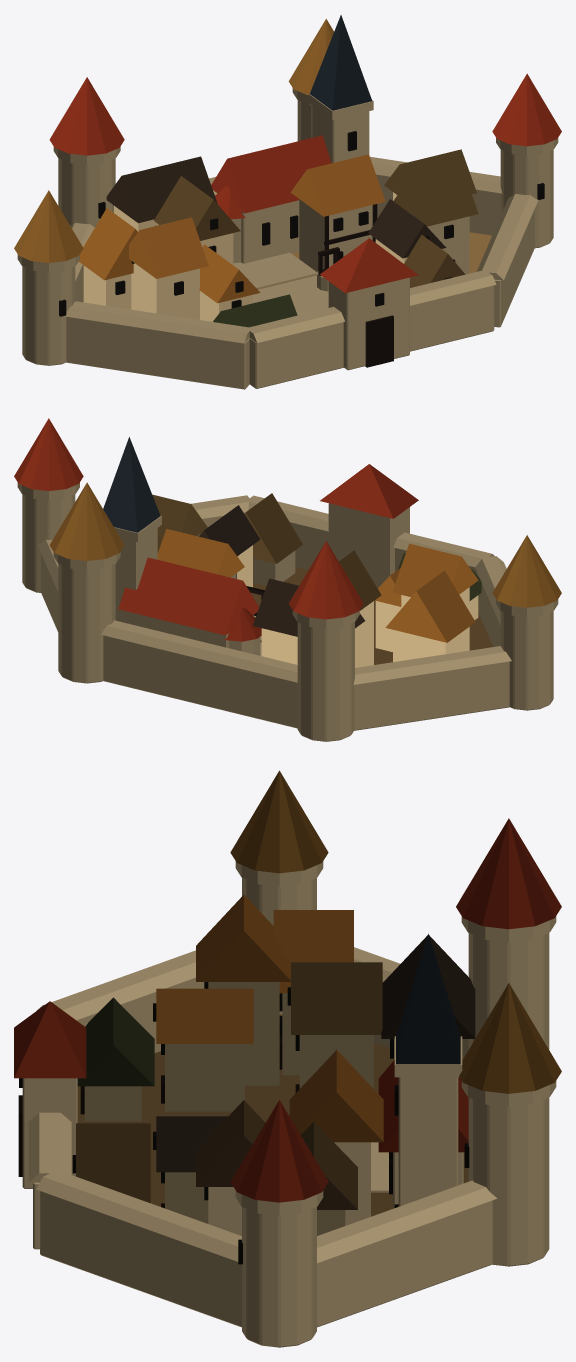
Rendered from settle_1.obj.
The picture shows the model from 3 angles, top to bottom: view 1: azimuth 30°, elevation 25°; view 2: azimuth 150°, elevation 25°; view 3: azimuth 270°, elevation 25°; orthographic projection. The views are drawn at different scales.
Parts seen in each view (by area): view 1: core_stone, core_roof_civic, core_roof_thatch, core_roof_thatch_old, core_plaster, core_roof_shingle, core_thatch, core_slate, core_window, core_wood_dark, core_roof_moss, core_cloth; view 2: core_stone, core_roof_civic, core_roof_thatch, core_thatch, core_plaster, core_roof_thatch_old, core_roof_shingle, core_slate, core_cloth; view 3: core_stone, core_roof_thatch, core_roof_civic, core_roof_thatch_old, core_plaster, core_thatch, core_roof_shingle, core_slate, core_cloth, core_roof_moss, core_window, core_wood_dark.
Part boxes in pixels (x1,y1,x2,y2): core_stone: [17, 88, 558, 389]; core_roof_civic: [49, 73, 561, 293]; core_roof_thatch: [78, 154, 385, 303]; core_roof_thatch_old: [154, 149, 478, 287]; core_plaster: [83, 192, 407, 321]; core_roof_shingle: [106, 156, 446, 258]; core_thatch: [14, 19, 333, 262]; core_slate: [310, 15, 372, 110]; core_window: [59, 131, 544, 316]; core_wood_dark: [318, 204, 455, 367]; core_roof_moss: [213, 294, 297, 327]; core_cloth: [83, 232, 491, 302]; core_stone: [17, 482, 558, 741]; core_roof_civic: [14, 418, 418, 641]; core_roof_thatch: [157, 529, 478, 642]; core_thatch: [49, 482, 561, 607]; core_plaster: [236, 545, 478, 667]; core_roof_thatch_old: [152, 493, 381, 610]; core_roof_shingle: [198, 505, 364, 636]; core_slate: [103, 437, 160, 532]; core_cloth: [250, 567, 492, 664]; core_stone: [22, 861, 556, 1347]; core_roof_thatch: [156, 895, 383, 1142]; core_roof_civic: [14, 818, 561, 1202]; core_roof_thatch_old: [76, 962, 382, 1209]; core_plaster: [84, 982, 462, 1235]; core_thatch: [230, 770, 561, 1093]; core_roof_shingle: [156, 935, 475, 1172]; core_slate: [396, 933, 460, 1064]; core_cloth: [77, 1014, 468, 1216]; core_roof_moss: [77, 997, 154, 1086]; core_window: [19, 982, 469, 1264]; core_wood_dark: [18, 1036, 398, 1208].
Bounding box in the file's own units: 1.53 × 0.592 × 0.9566.
